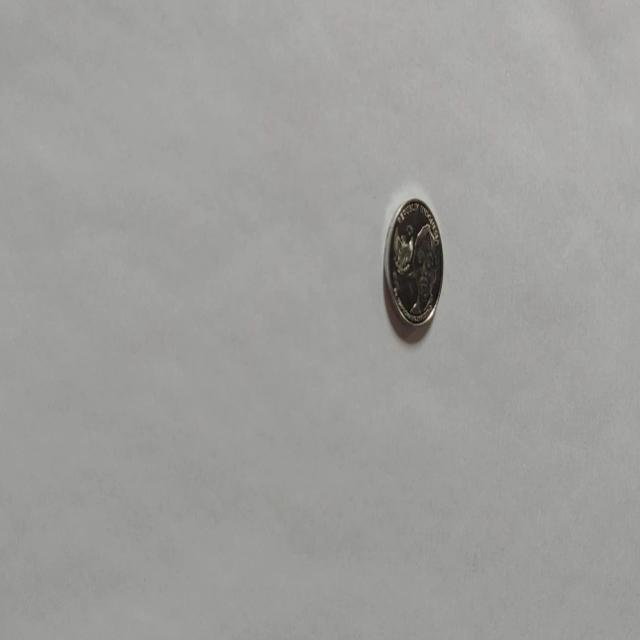dua ratus rupiah: (384, 196, 444, 328)
